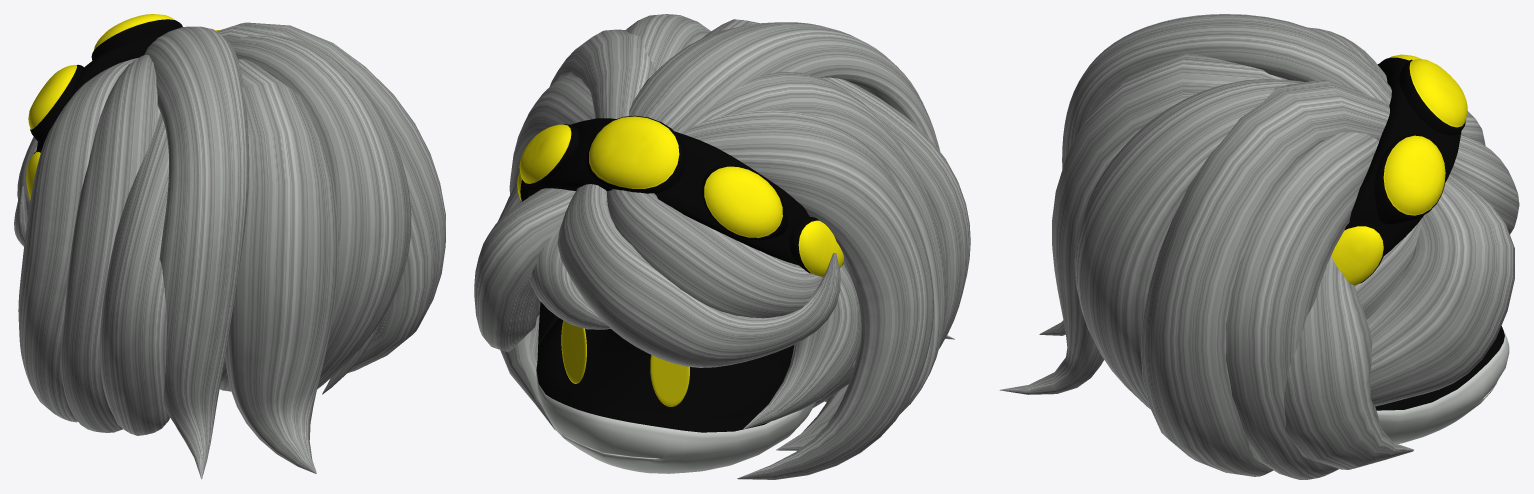
3 views of the same model, side by side, from view 1: azimuth 30°, elevation 25°; view 2: azimuth 150°, elevation 25°; view 3: azimuth 270°, elevation 25° (orthographic). The views are drawn at different scales.
Visible parts, largest first — view 1: v; view 2: v; view 3: v.
Boxes of the visible parts, x1,y1,x2,y2 form: v: (14, 14, 445, 479); v: (474, 14, 970, 479); v: (999, 14, 1519, 479).
Bounding box in the file's own units: 2.62 × 2.42 × 2.82.
Materials: 9 (9 with a texture image).
